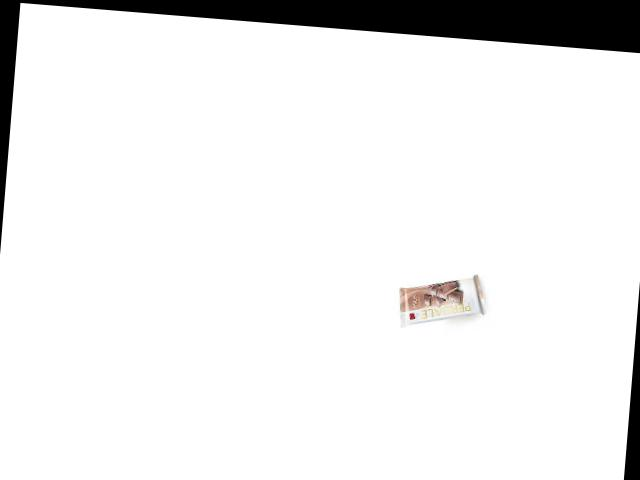chocolate: (396, 262, 483, 335)
